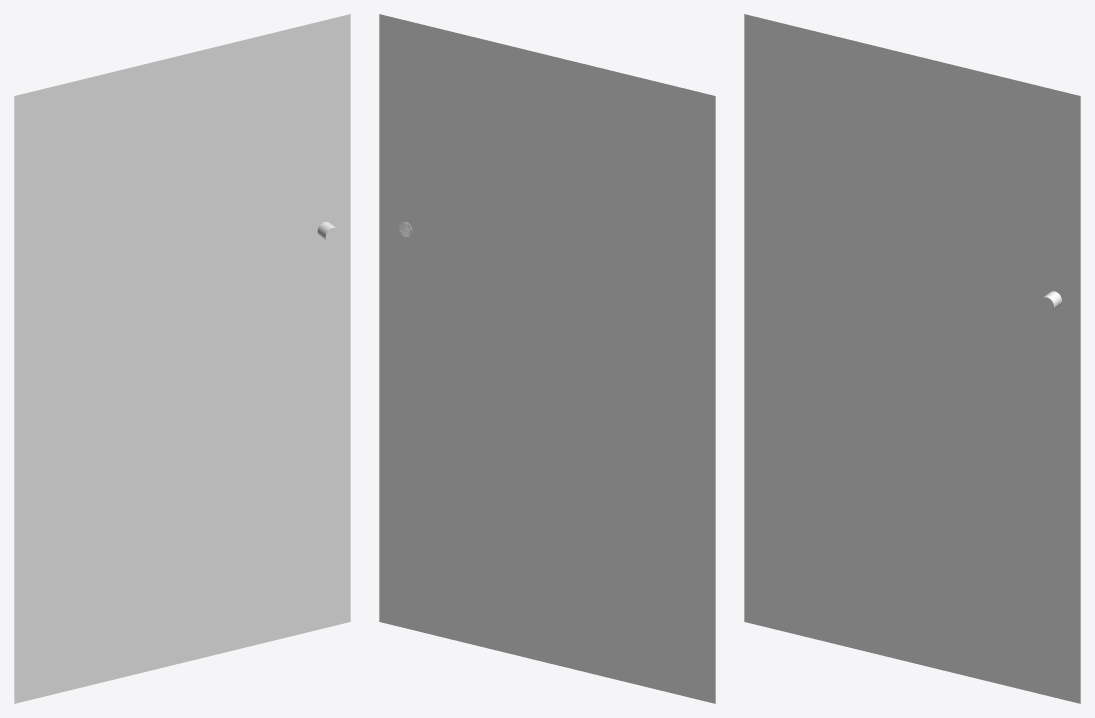
Rendered from Puerta.fbx.
3 renders of one model, left to right at view 1: azimuth 30°, elevation 25°; view 2: azimuth 150°, elevation 25°; view 3: azimuth 330°, elevation 25°, orthographic.
Parts seen in each view (by area): view 1: Puerta; view 2: Puerta; view 3: Puerta.
Boxes of the visible parts, x1,y1,x2,y2 form: Puerta: (14, 14, 350, 703); Puerta: (379, 14, 715, 703); Puerta: (744, 14, 1080, 703).
Bounding box in the file's own units: 396 × 684 × 16.92.
